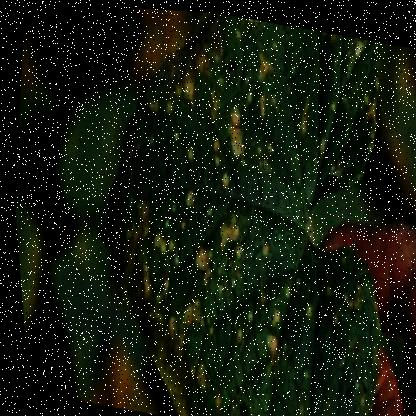Anthracnose: (68, 3, 360, 415)
